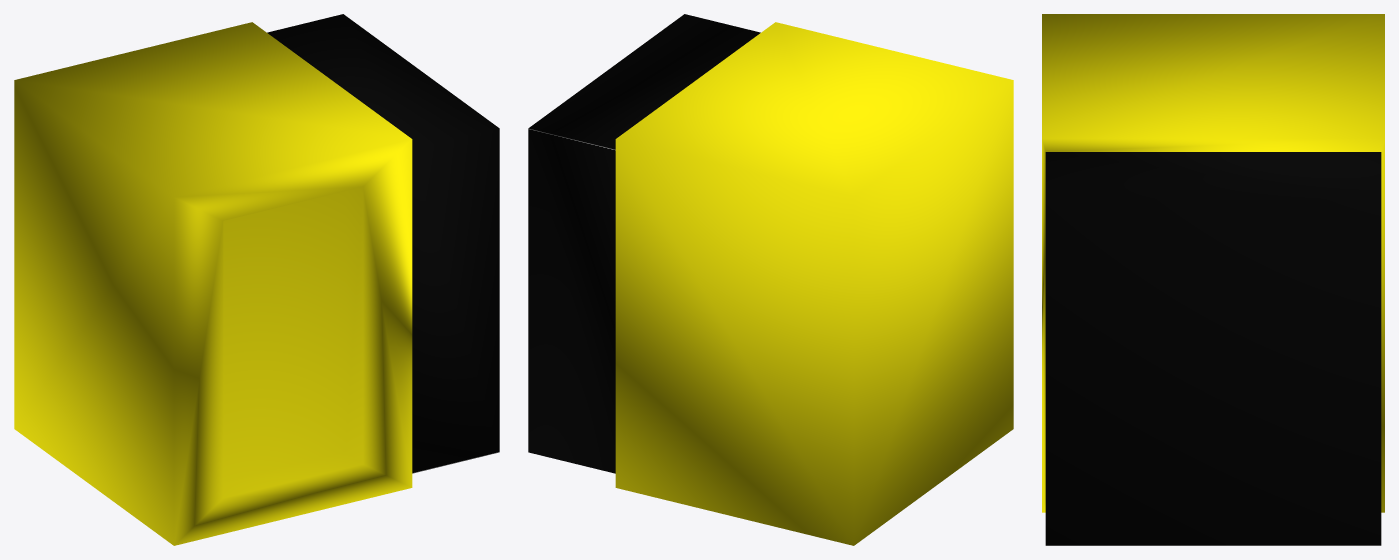
Rendered from gripper.dae.
The picture shows the model from 3 angles, left to right: view 1: azimuth 30°, elevation 25°; view 2: azimuth 150°, elevation 25°; view 3: azimuth 270°, elevation 25°; orthographic projection. The views are drawn at different scales.
Parts seen in each view (by area): view 1: transform1; view 2: transform1; view 3: transform1.
Part boxes in pixels (x1,y1,x2,y2): transform1: (14, 14, 499, 545); transform1: (528, 14, 1013, 545); transform1: (1042, 14, 1384, 545).
Size of the model in its own units: 0.11 by 0.112 by 0.093.
Materials: 1 (1 with a texture image).
